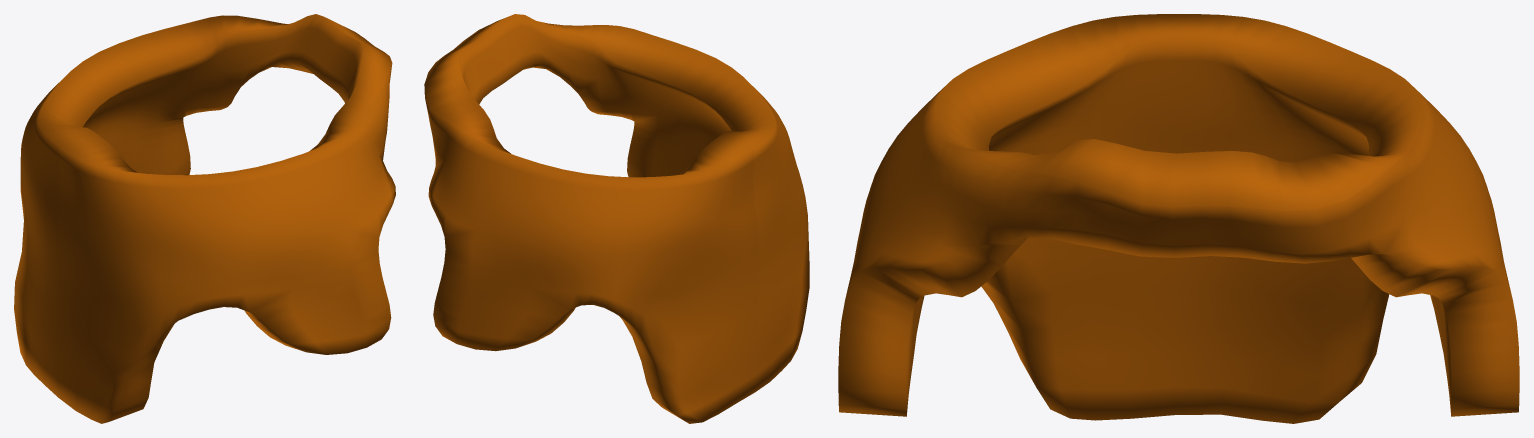
The model's file is hair.fbx.
The picture shows the model from 3 angles, left to right: view 1: azimuth 30°, elevation 25°; view 2: azimuth 150°, elevation 25°; view 3: azimuth 270°, elevation 25°; orthographic projection. The views are drawn at different scales.
Visible parts, largest first — view 1: Plane; view 2: Plane; view 3: Plane.
Part boxes in pixels (left/top/right/bottom): Plane: left=14, top=14, right=395, bottom=423; Plane: left=424, top=14, right=809, bottom=423; Plane: left=838, top=14, right=1519, bottom=423.
Size of the model in its own units: 175 by 161 by 217.
